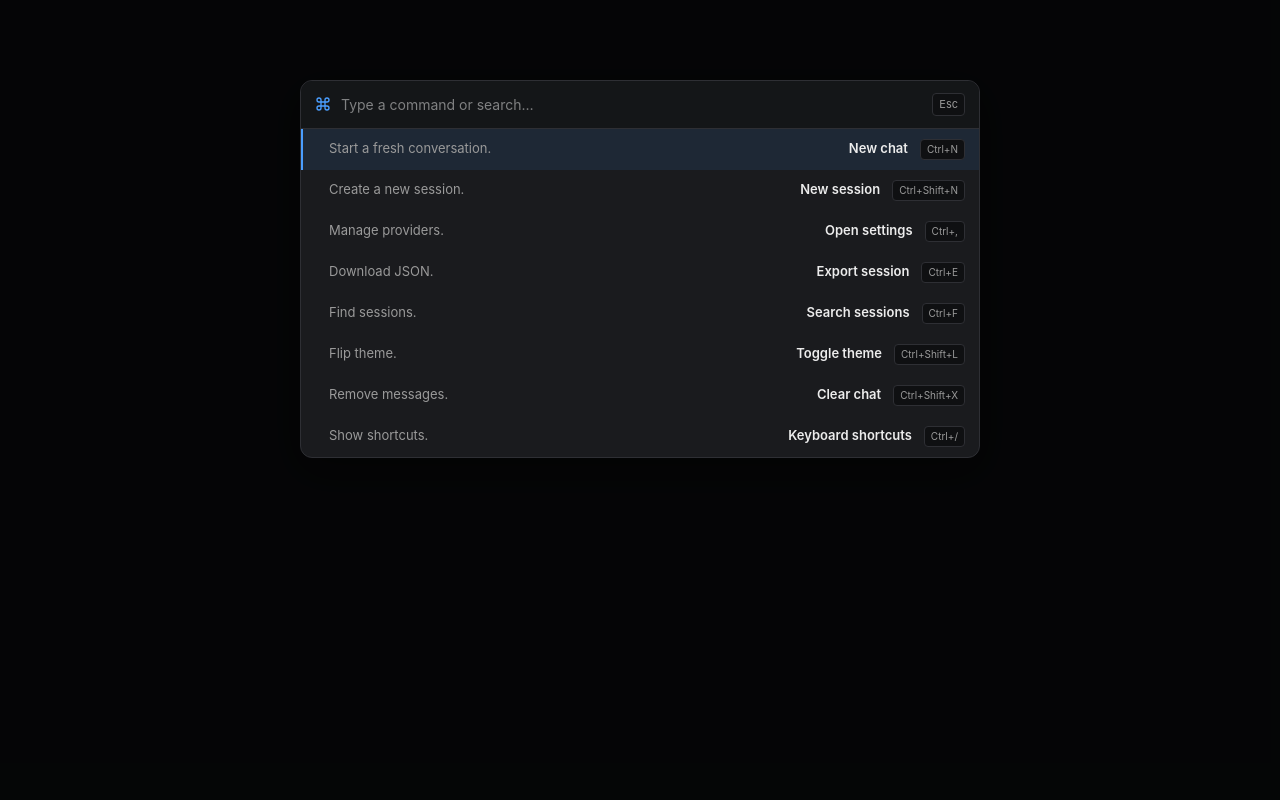
Test case: CommandPalette › filters commands by name when typing
Type "theme" into the field named "command search". click: (632, 104)
box: [341,94,922,115]
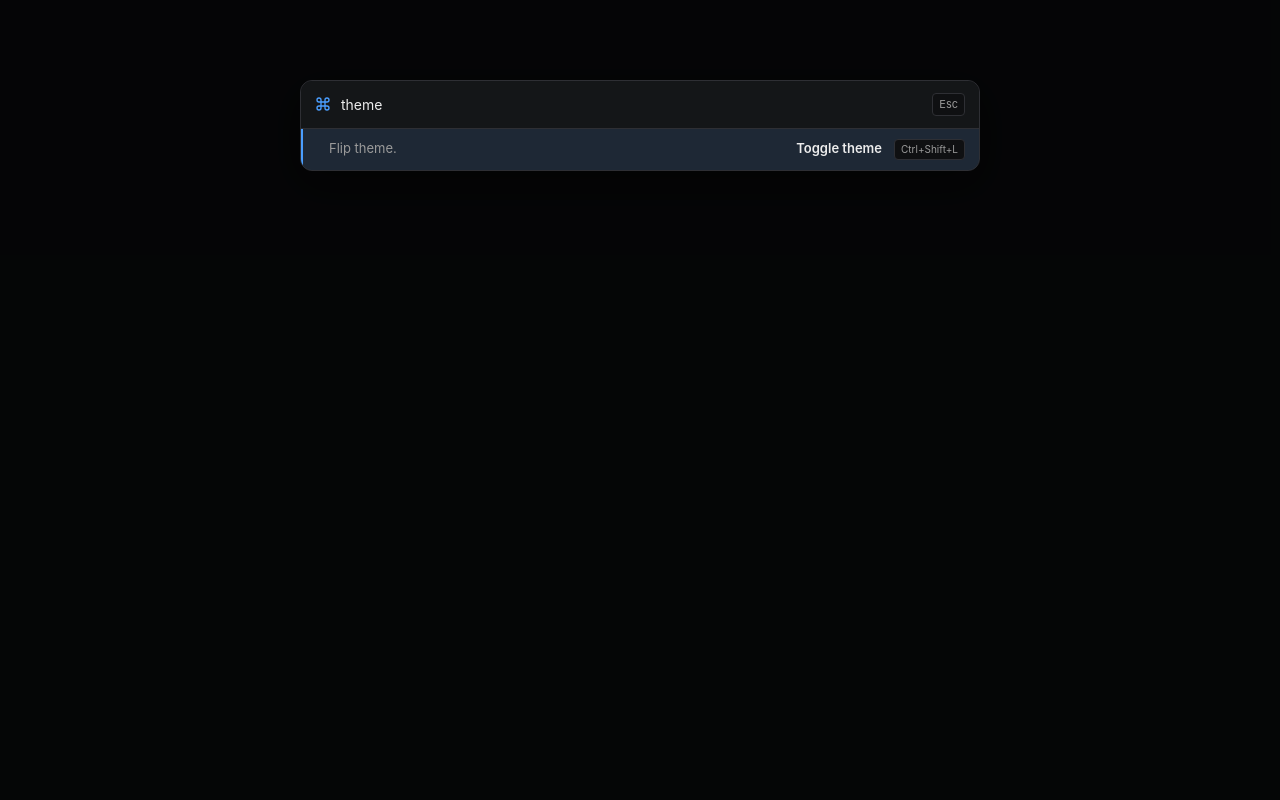
Expected: the text "Toggle theme" is shown, [796,139,882,159]
Now the option "New chat" is gone
